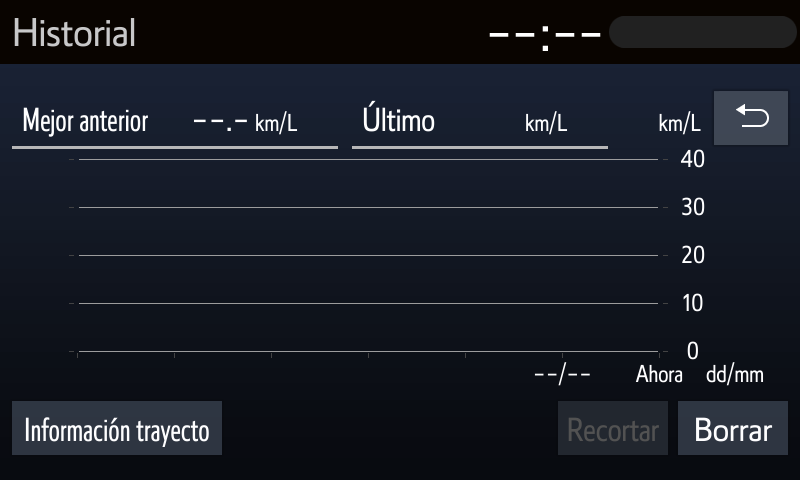touchPart: (8, 400, 224, 456), (678, 401, 787, 458), (711, 91, 788, 147)
untouchPart: (5, 94, 704, 388), (476, 3, 796, 55), (555, 400, 669, 457), (9, 10, 141, 53)
